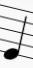E: (3, 2, 27, 61)
